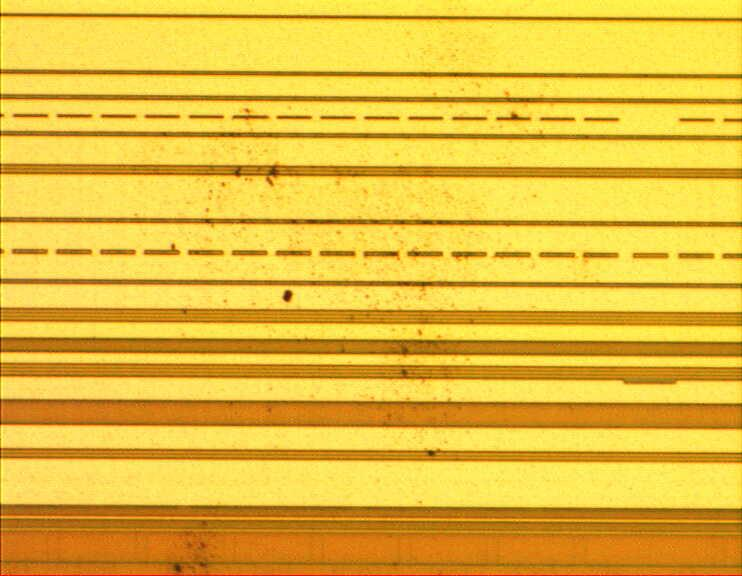PO CONTAMINATION: (155, 1, 573, 463)
